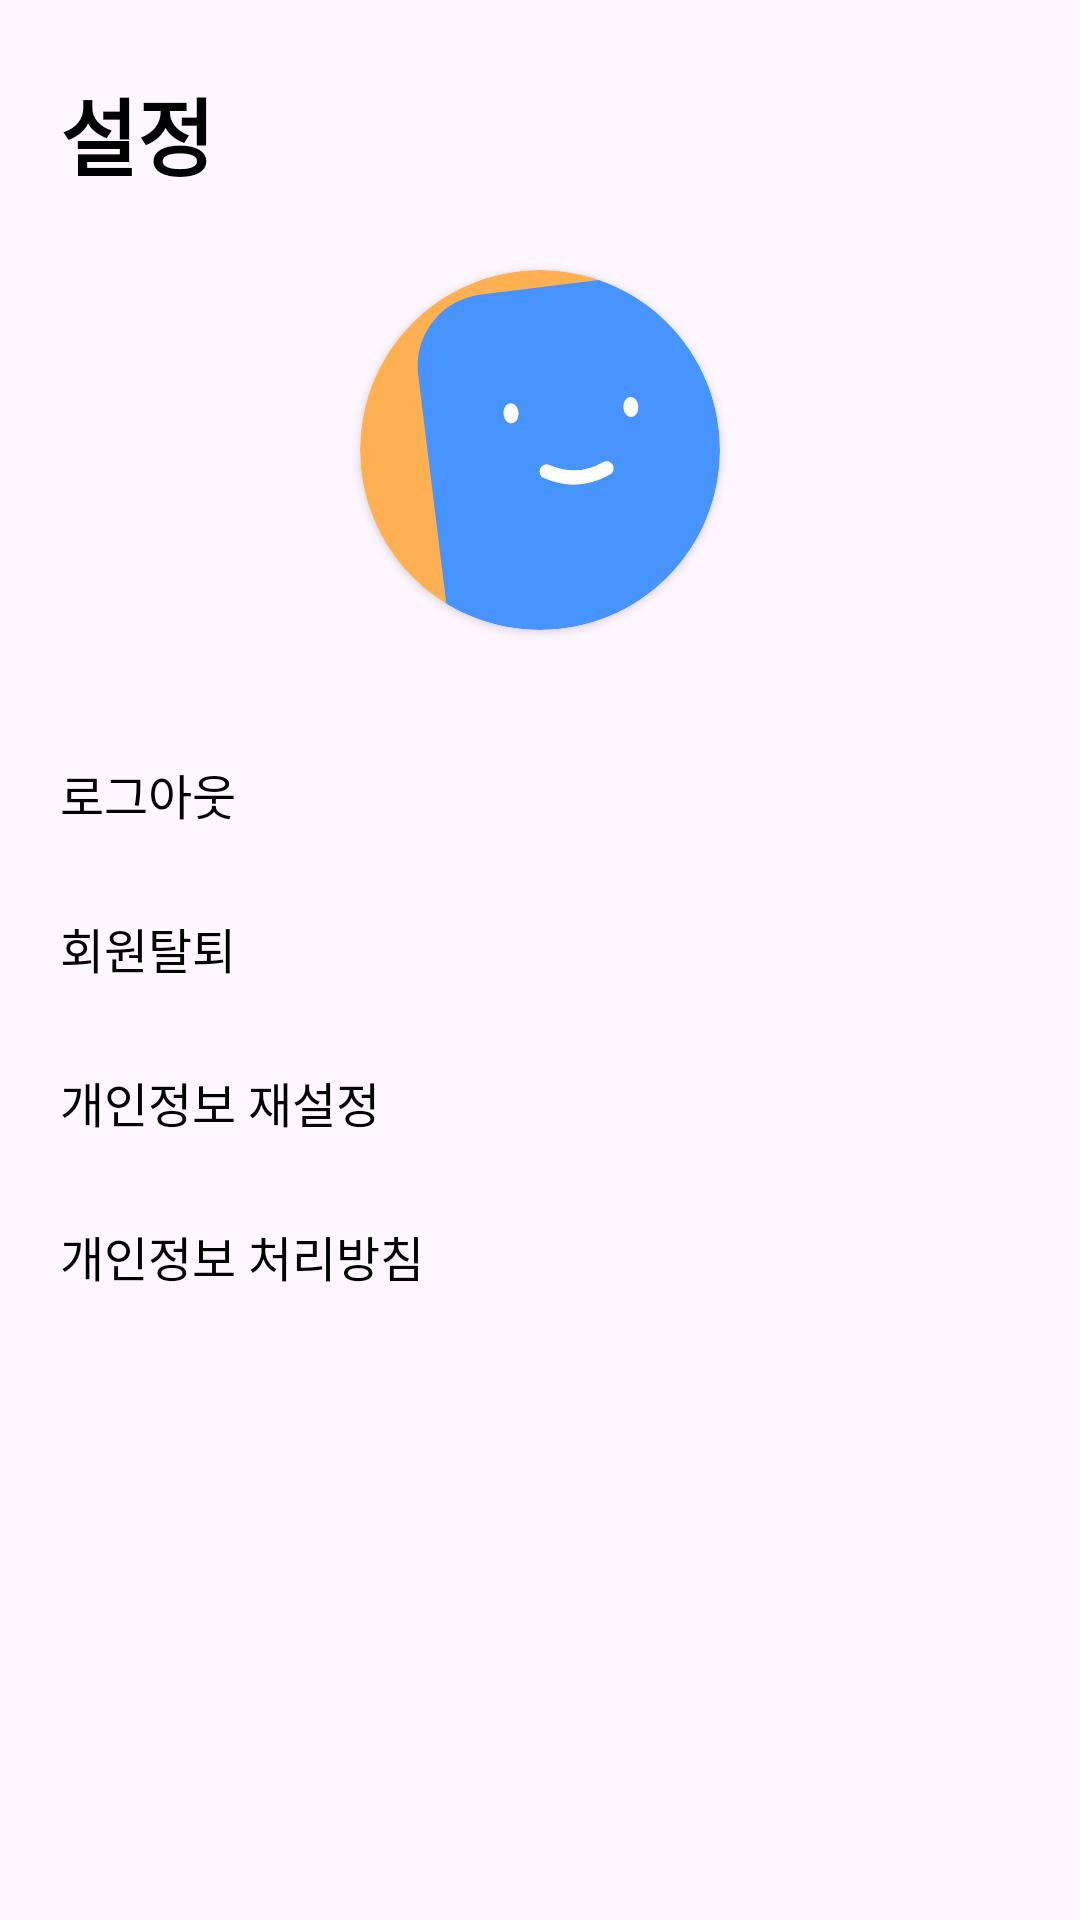

Icons on this 1080px x 1920px Android screen, each with its box as bbox(x1, y1, x2, y2):
profile: bbox(360, 270, 720, 630)
